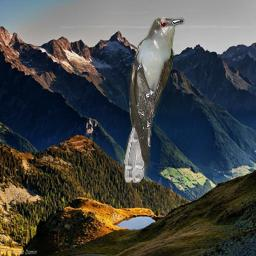Cuckoo: (122, 15, 185, 183)
